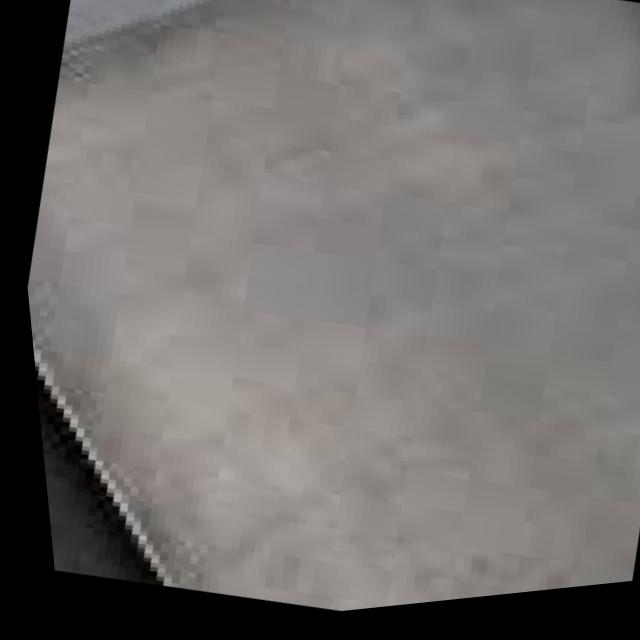metal-plates: (22, 1, 640, 618)
